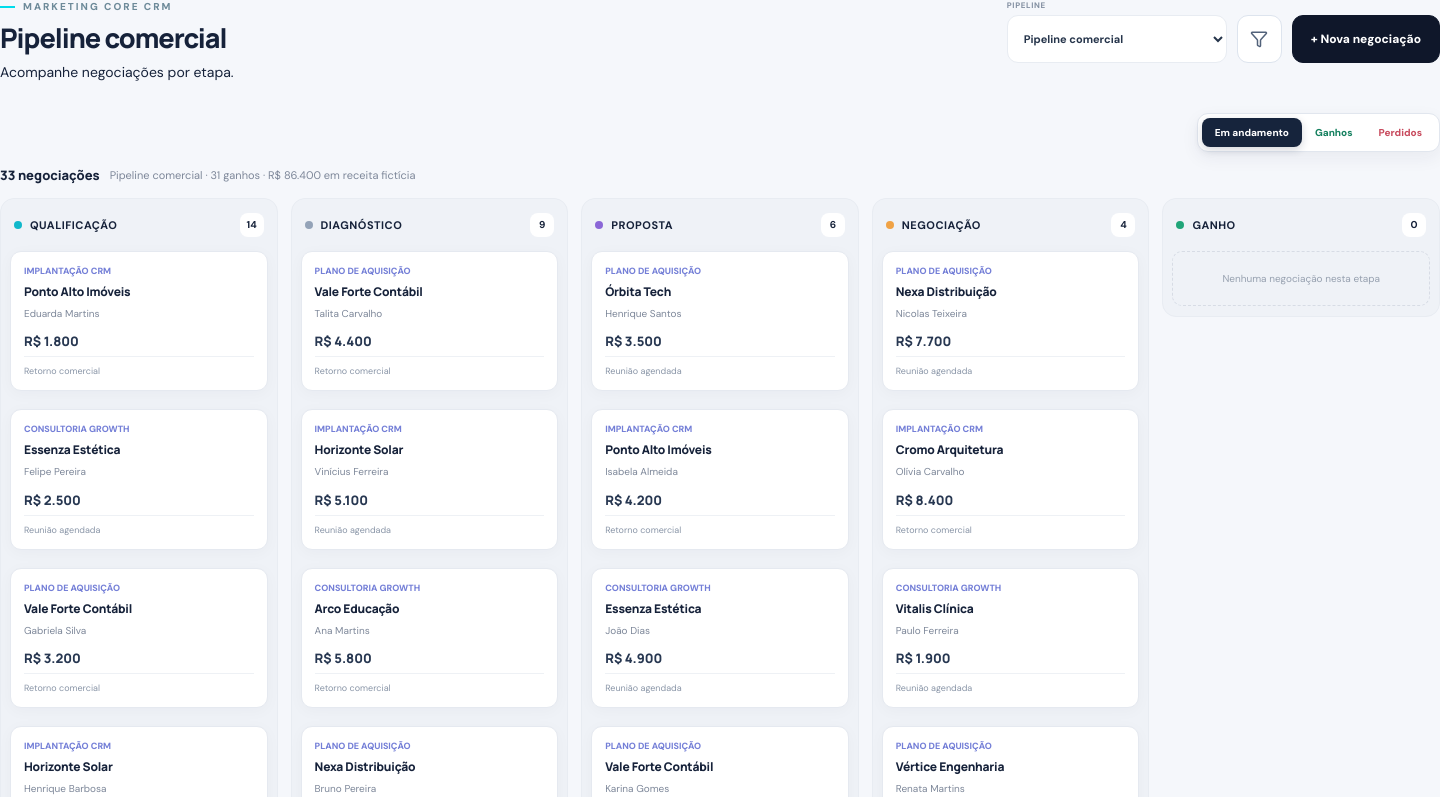
Test: configuração de pipelines › marca uma negociação como ganha
The width and height of the screenshot is (1440, 797).
Click the button with test id "deal-card-opp-1".
click(139, 321)  # box [10,251,268,391]
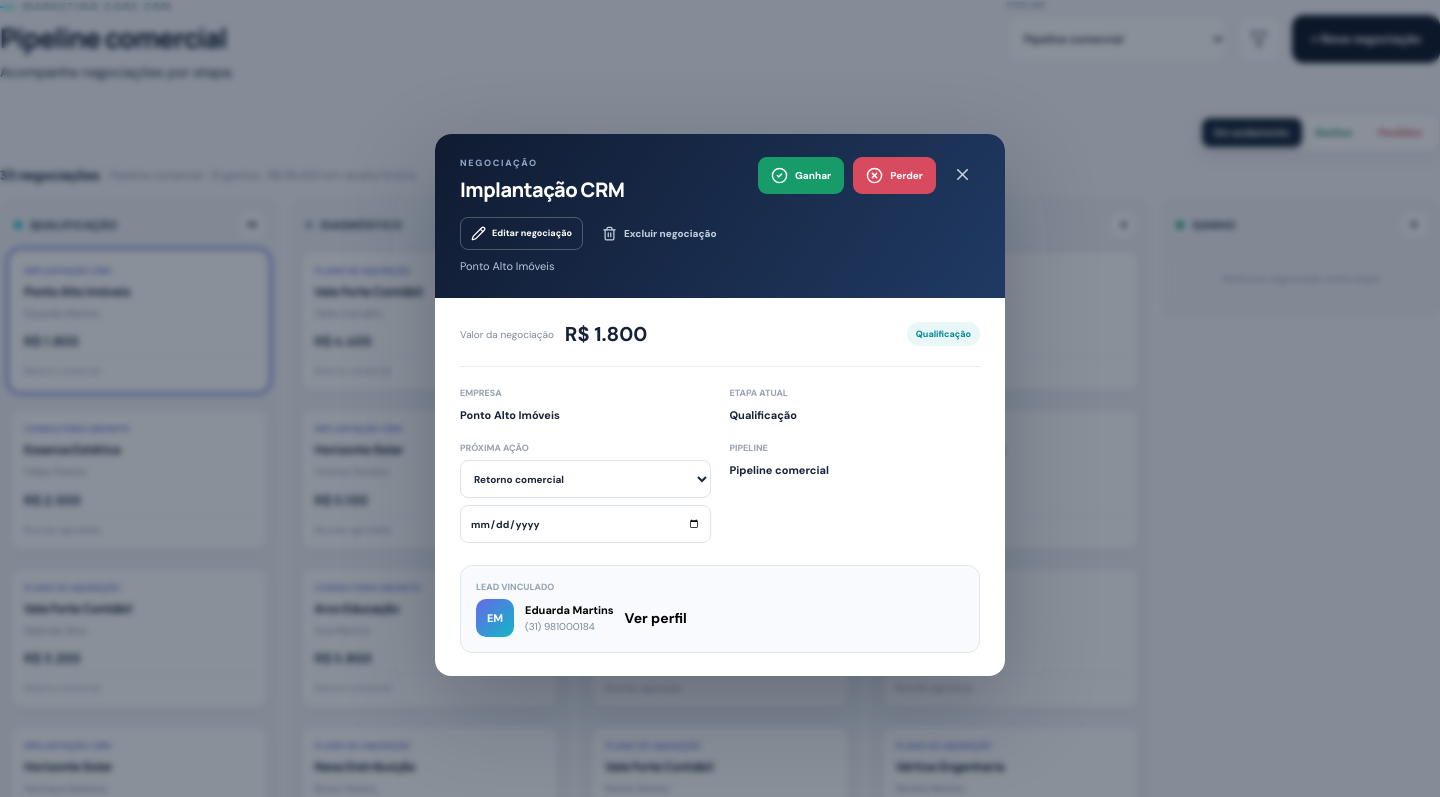
Click the button with aria-label "Marcar como ganha".
click(801, 176)  # box [758,157,844,194]
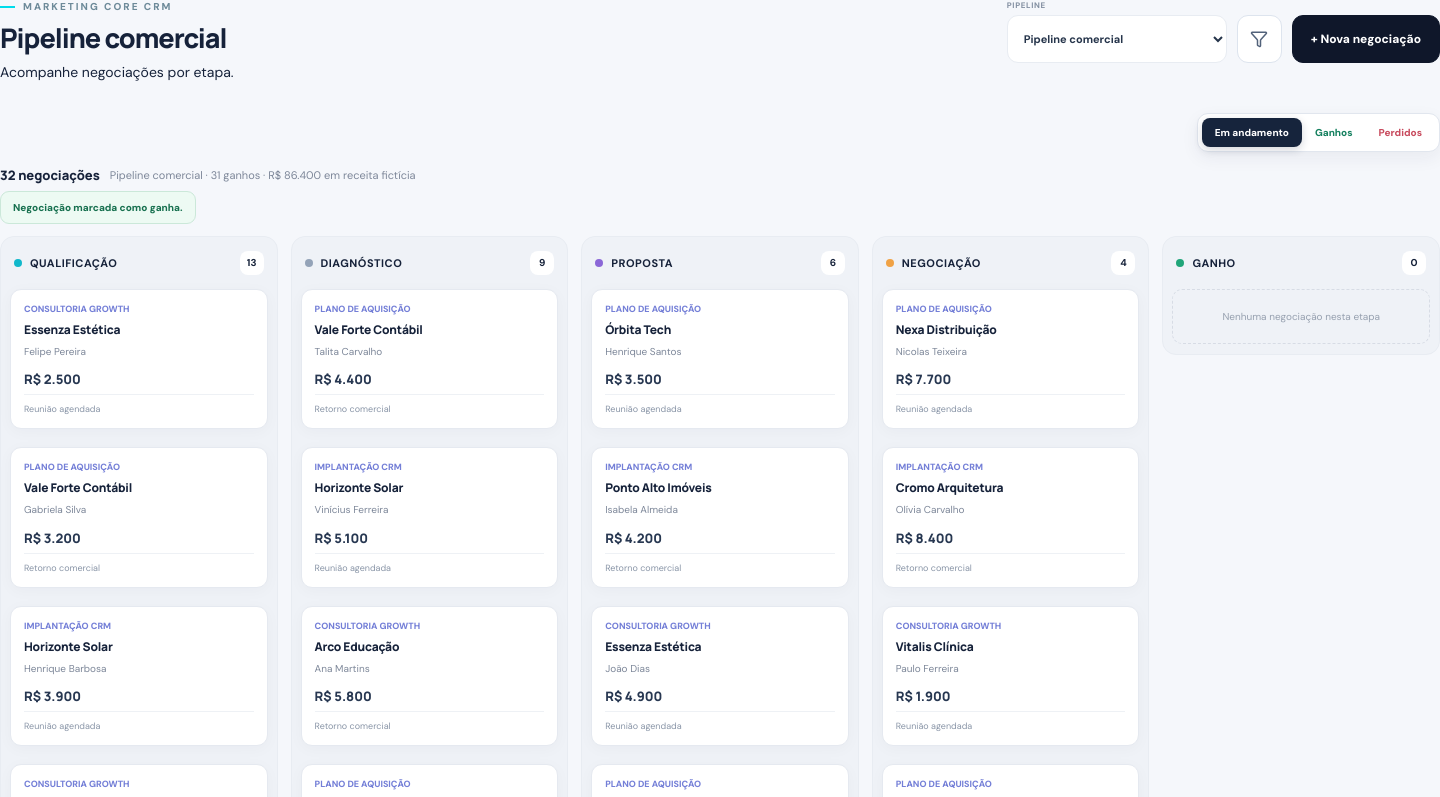
Check: the message shows "Negociação marcada como ganha", box [13,201,182,214]
Click the button "Ganhos".
click(1334, 132)  # box [1302,118,1366,147]
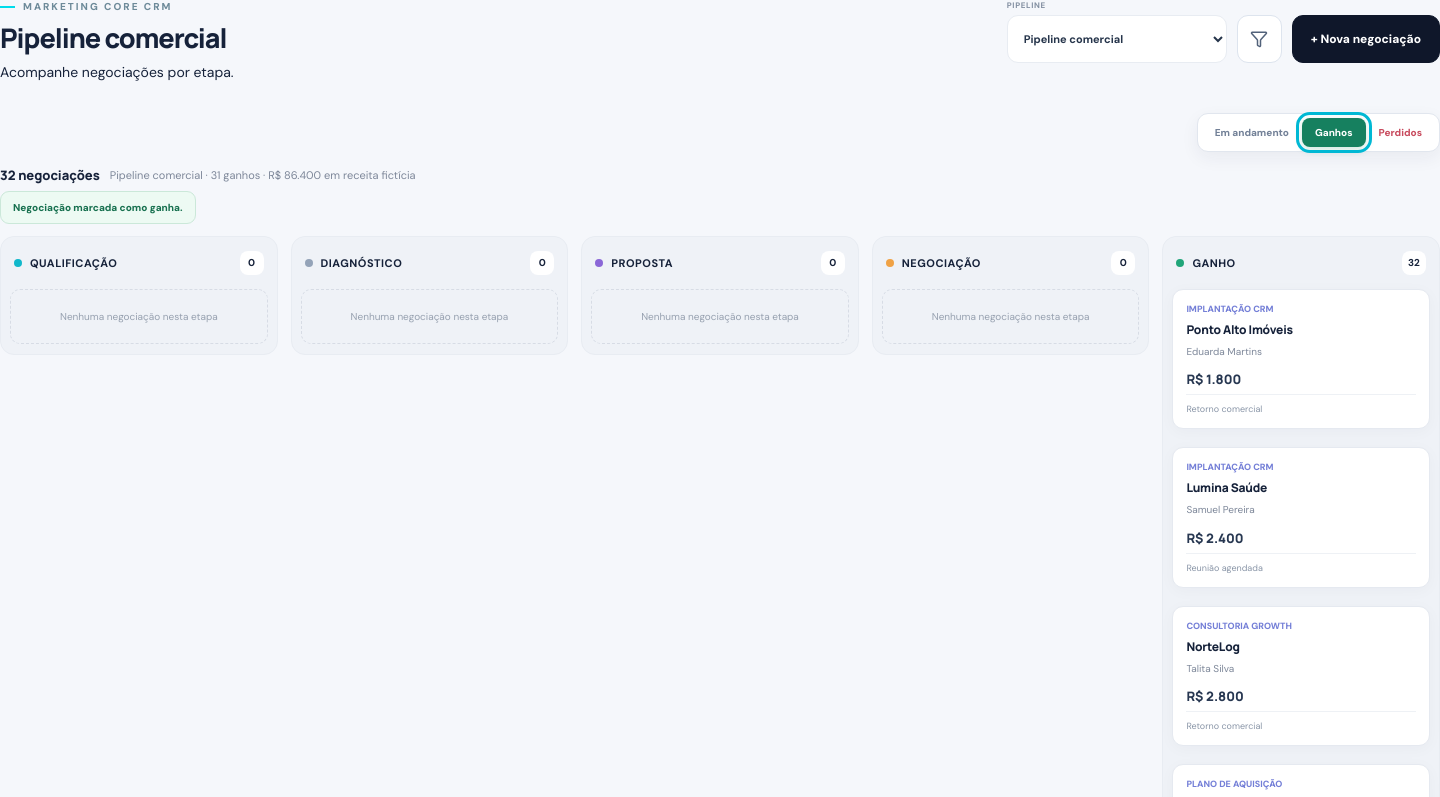
Check: the text "Eduarda Martins" is shown, box [1186,345,1262,358]
